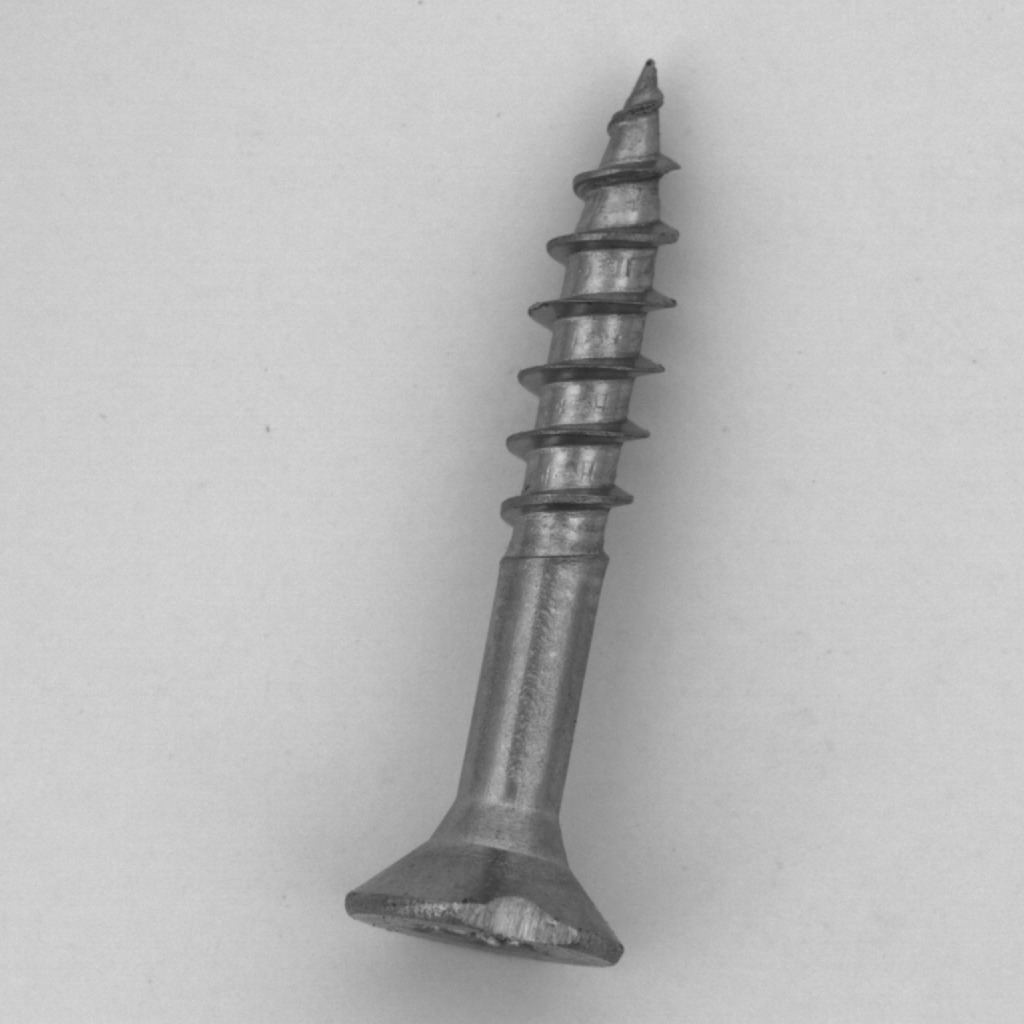scratch_neck: (277, 432, 492, 596)
